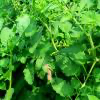Tomato leaf: (55, 54, 80, 80), (28, 25, 44, 57), (50, 79, 75, 98), (25, 16, 37, 43), (23, 60, 35, 86), (69, 50, 85, 67), (1, 26, 13, 46), (70, 76, 81, 90), (59, 15, 73, 22)
Tomato leaf late blight: (37, 56, 55, 79)
